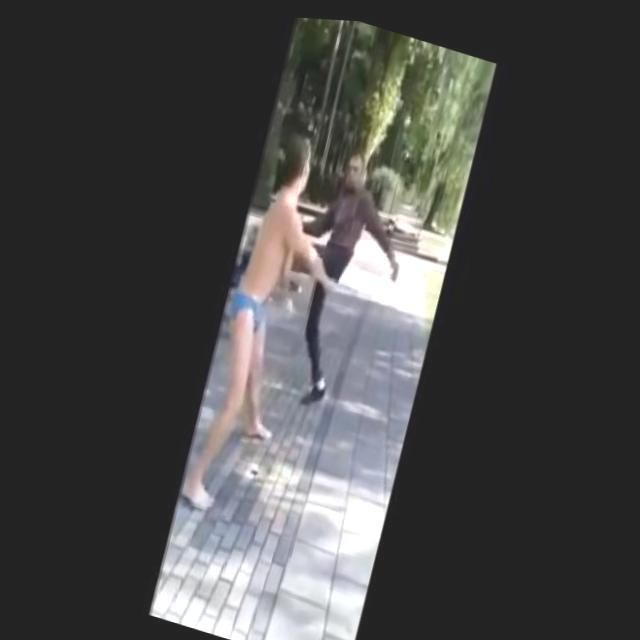fight: (174, 112, 427, 554)
